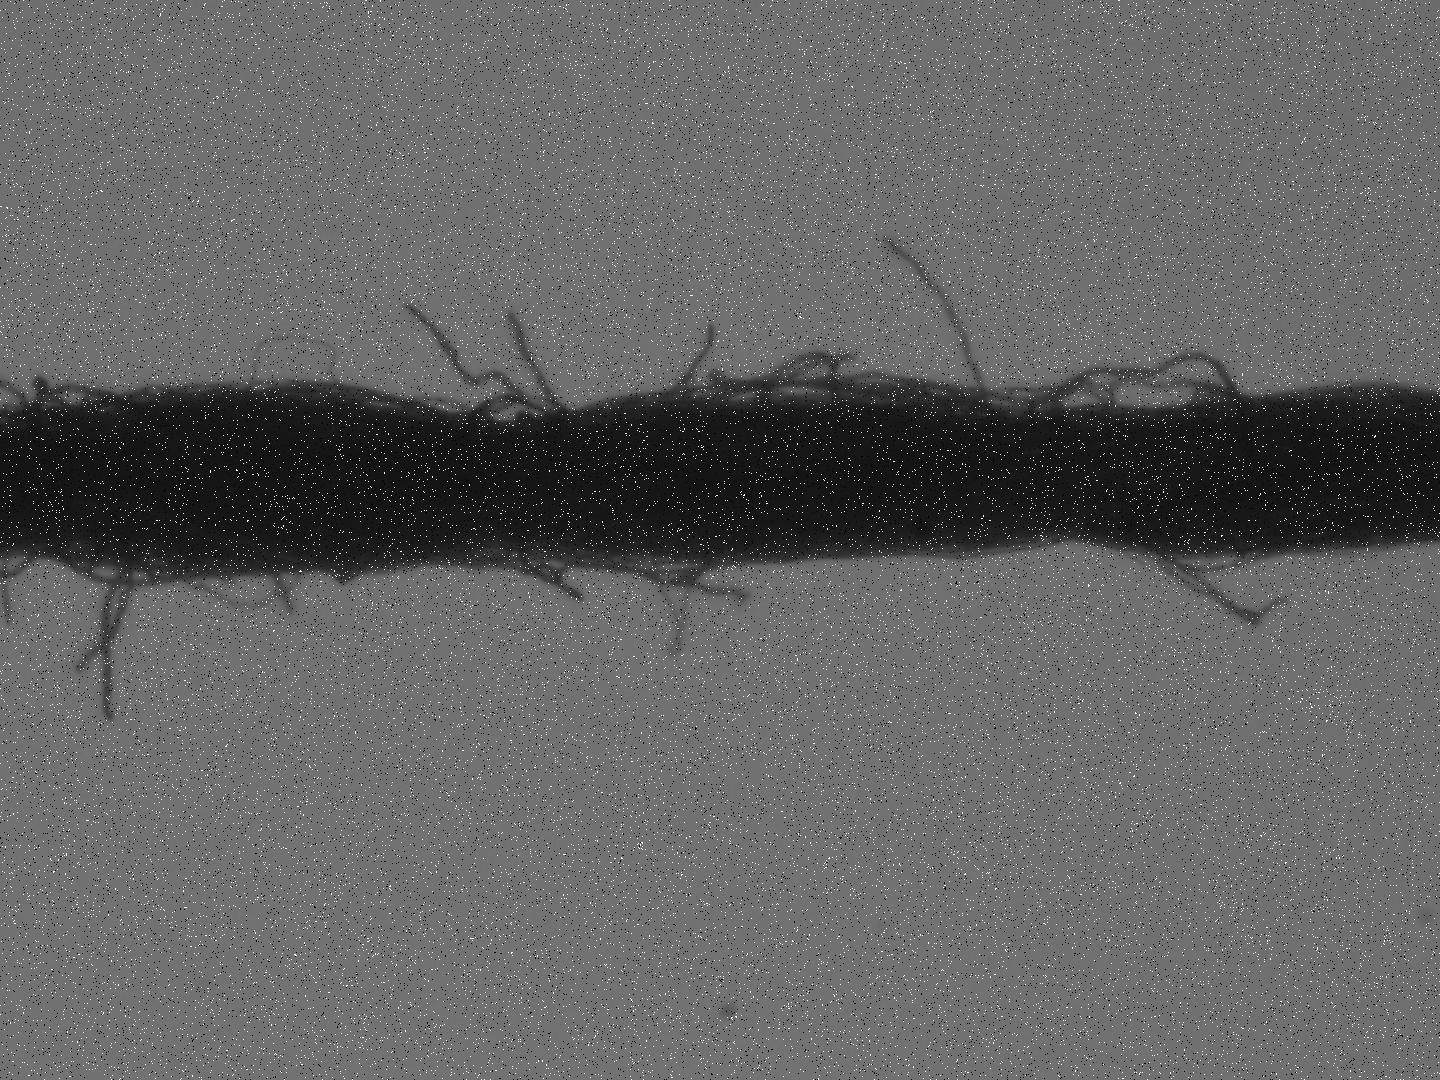loop_fiber: (1028, 345, 1255, 412), (57, 551, 197, 592), (751, 346, 842, 406), (1106, 372, 1235, 411), (26, 371, 119, 411), (464, 389, 566, 424), (1151, 547, 1281, 573)
protruding_fiber: (878, 221, 993, 408), (502, 295, 562, 415)
